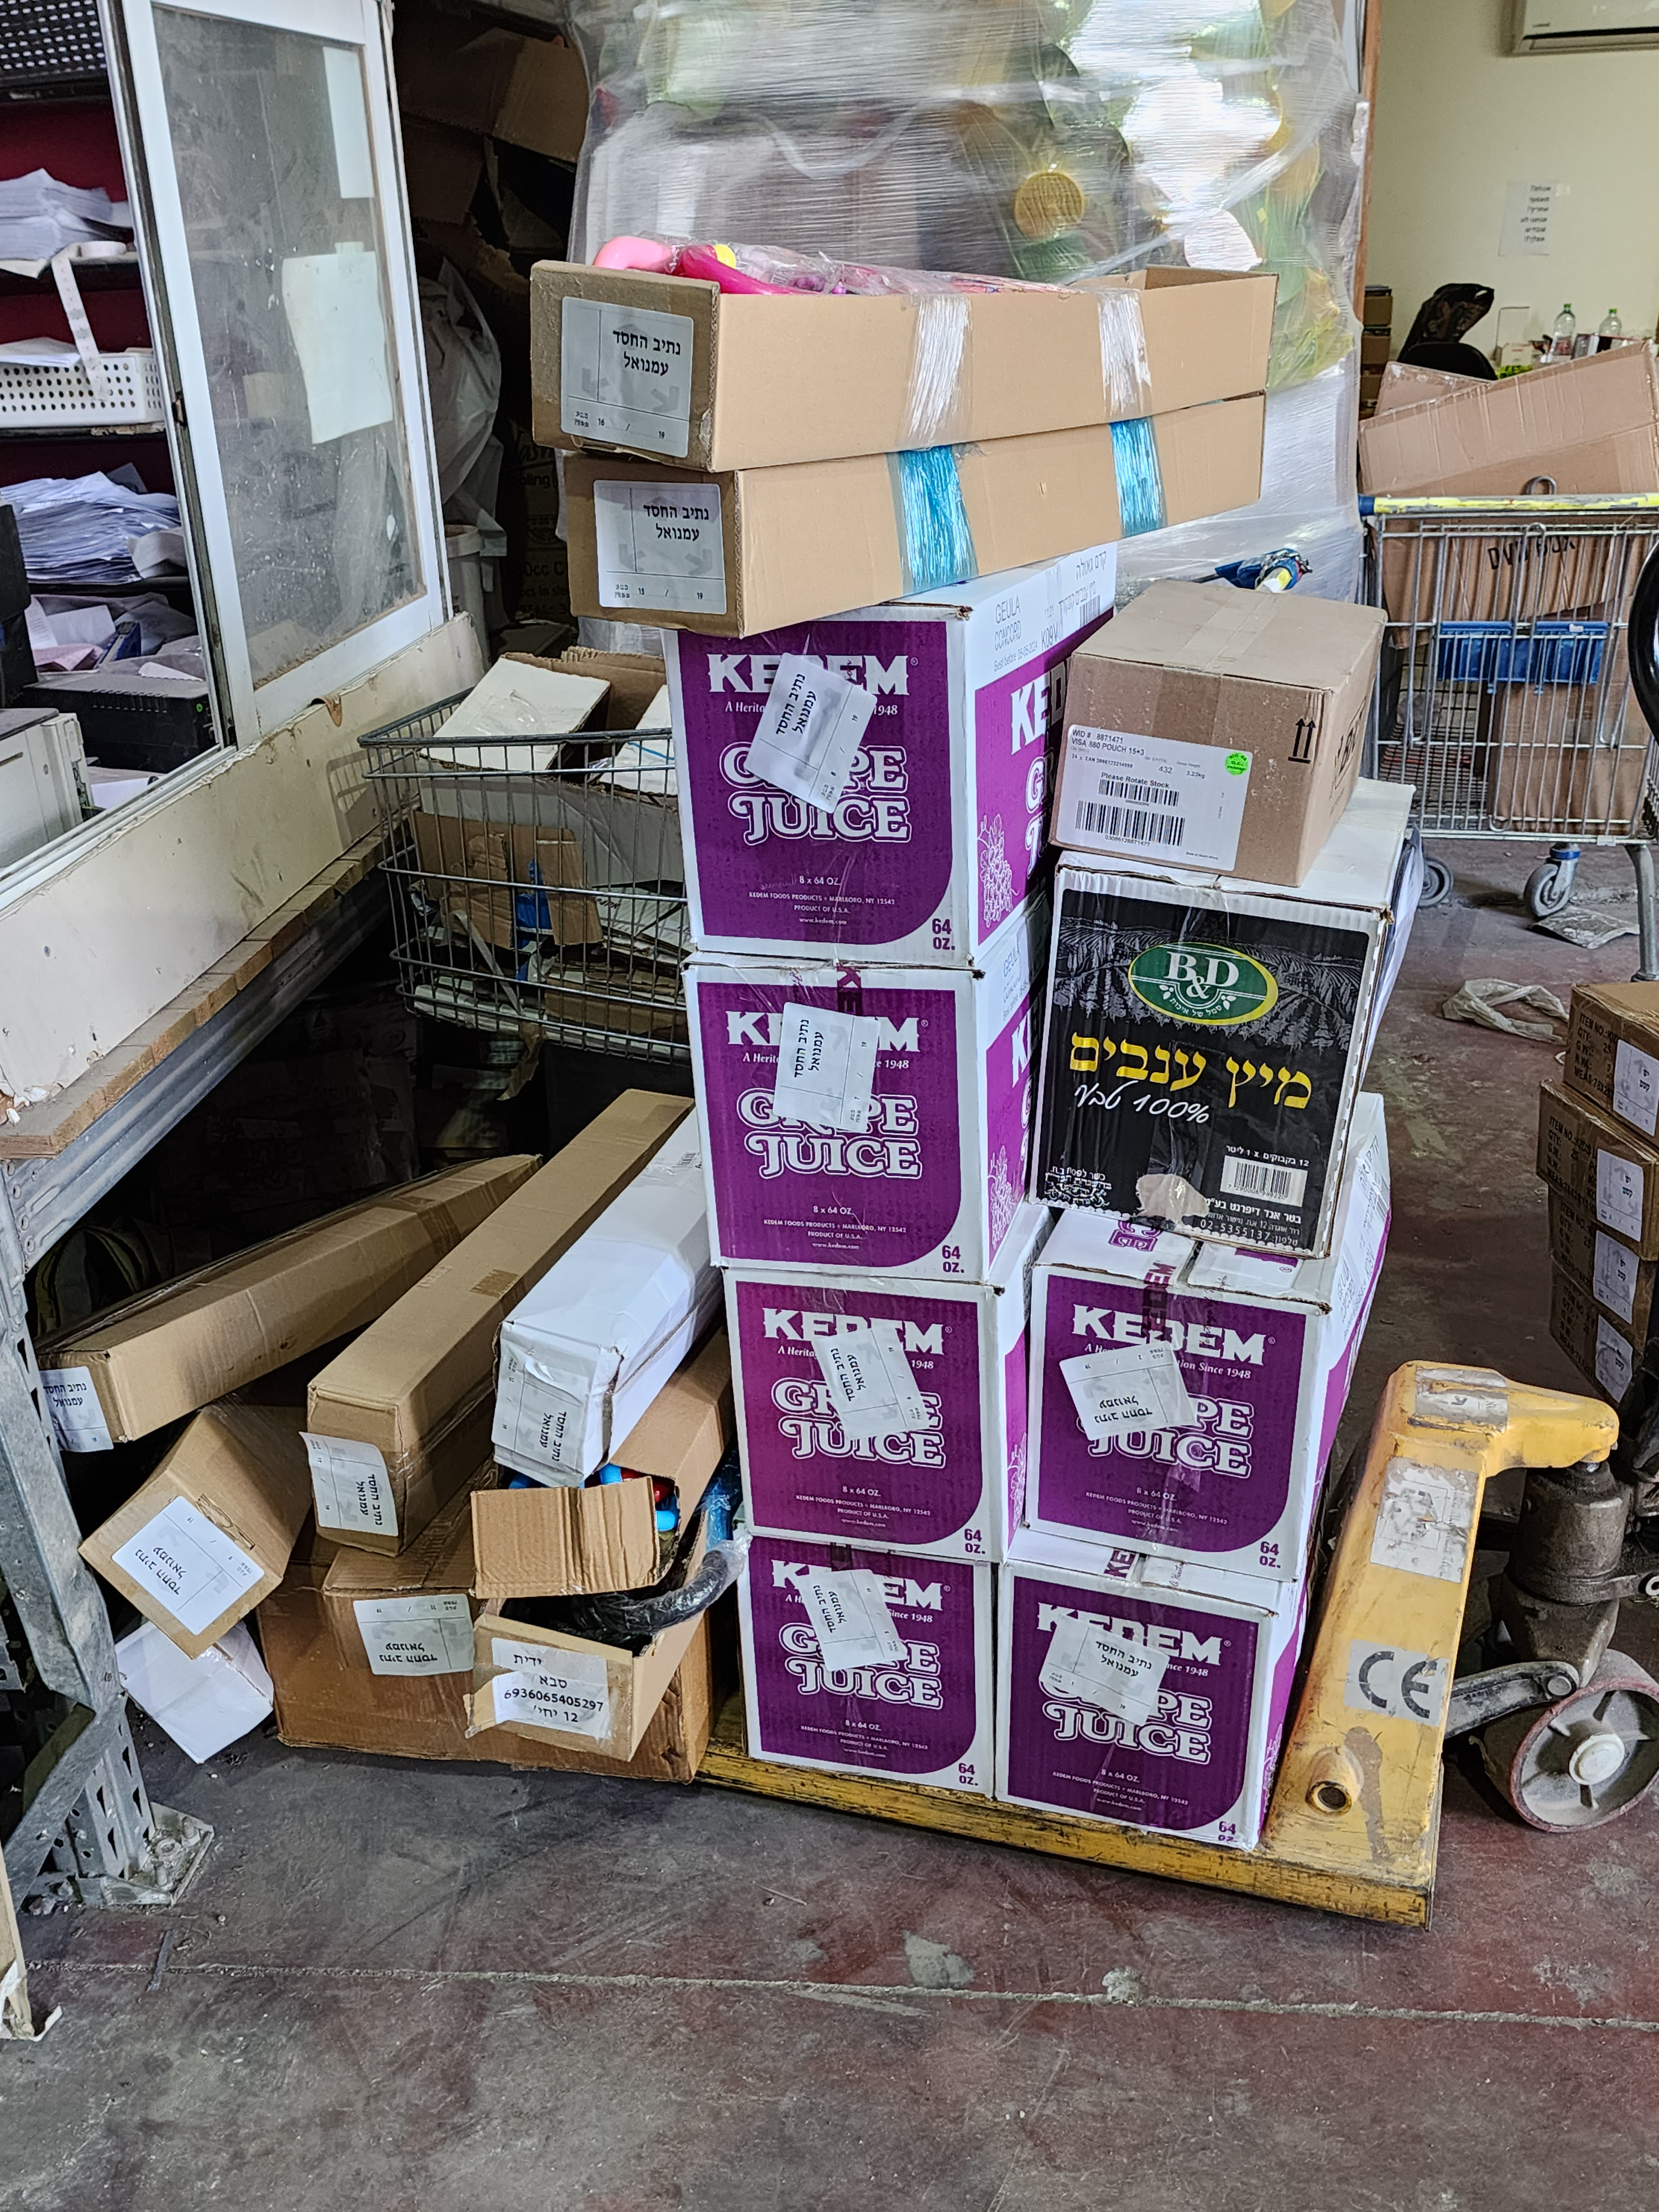box: (467, 179, 1331, 446), (596, 570, 1026, 998), (1049, 826, 1413, 1327), (641, 894, 1053, 1313), (554, 402, 1331, 611), (967, 1531, 1352, 1893), (659, 1193, 1007, 1583), (645, 1503, 1012, 1815), (1053, 1184, 1300, 1623), (1058, 585, 1375, 923)
